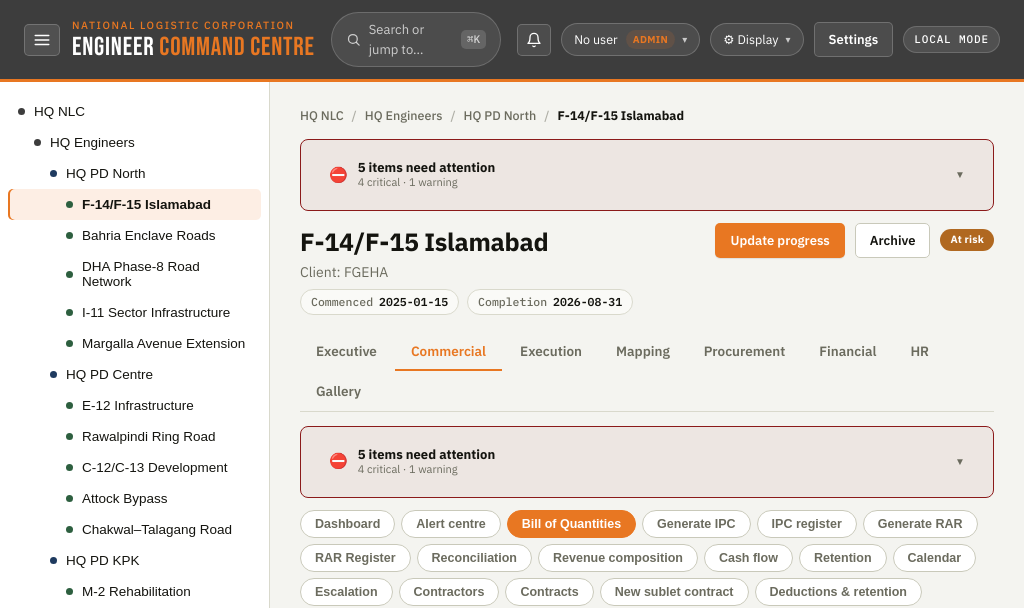
Test: Deleting a contract from the register › deletes a draft contract and releases its locked BOQ quantity
The width and height of the screenshot is (1024, 608).
Click the tab "Contracts": (550, 592) [505,578,594,606]
(page scrolled)
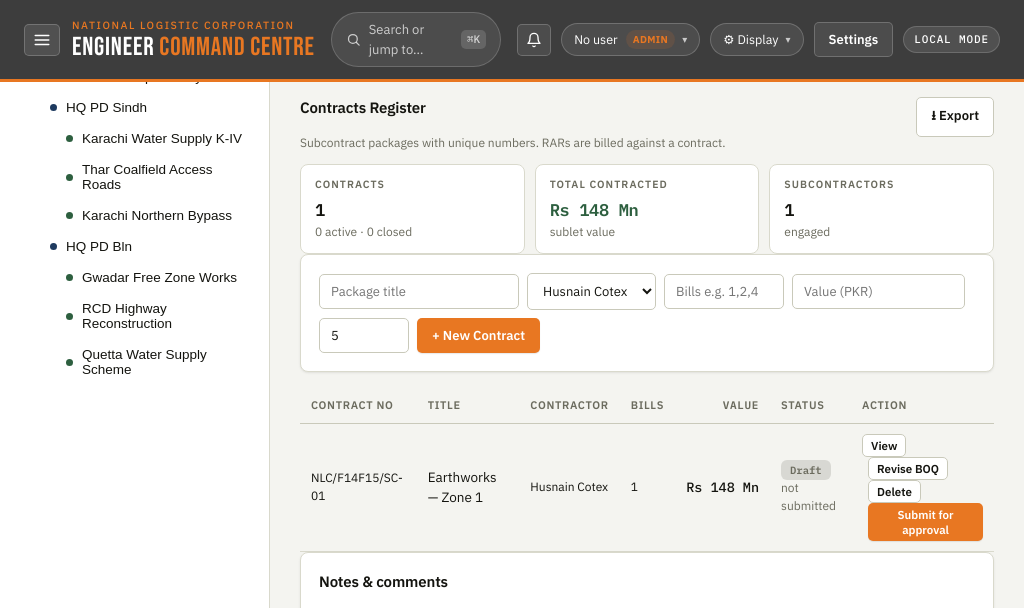
Expected: the table named "Contracts register" is shown, [300,388,994,552]
Expected: the text "NLC/F14F15/SC-01" is shown, [300,423,417,551]
Click the button "Delete": (894, 491) [868,480,921,503]
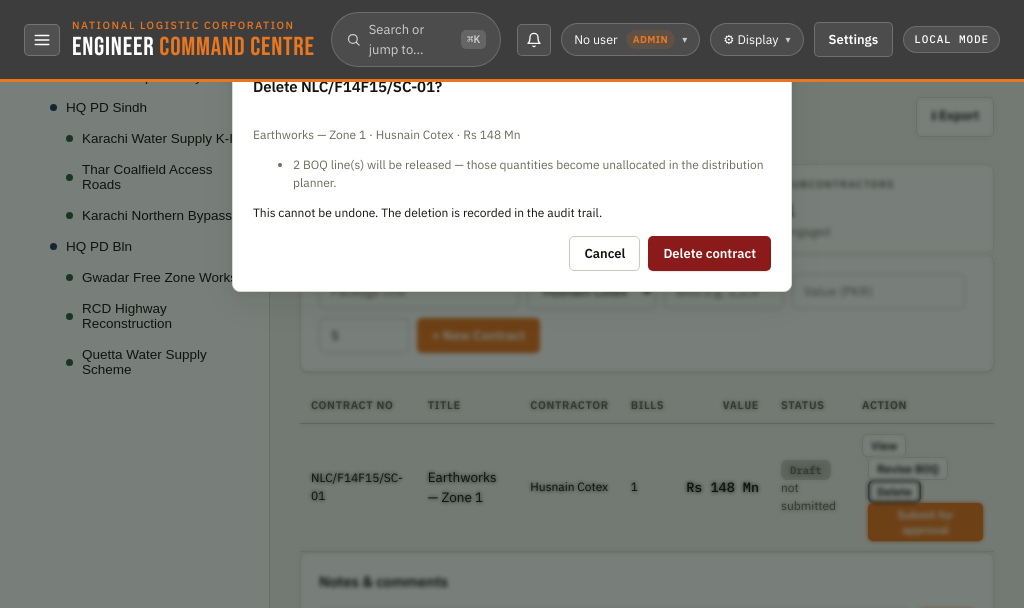
Expected: the list named "Deletion consequences" shows "released", [293,156,764,190]
Click the button "Delete contract": (710, 253) [648,236,771,270]
(page scrolled)
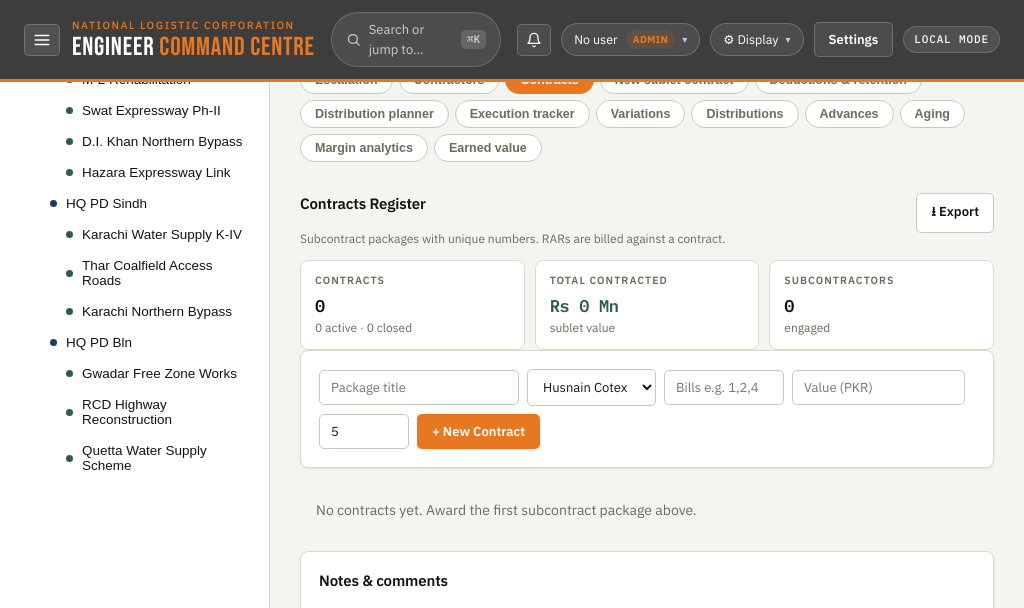
Click the tab "Distribution planner": (374, 114) [300,100,449,128]
(page scrolled)
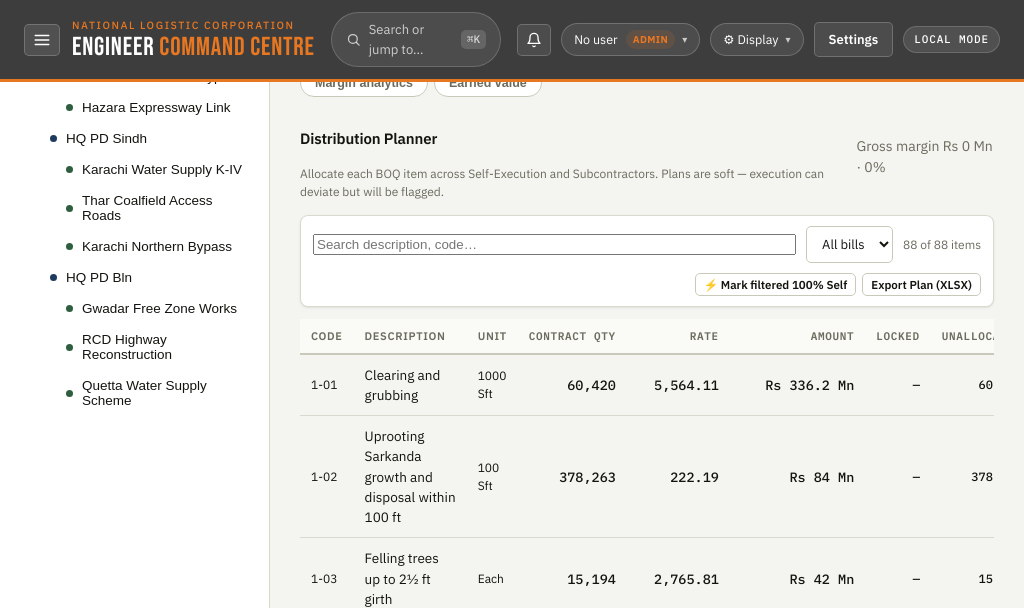
Expected: the text "1-01" shows "—", [913,377,920,392]
